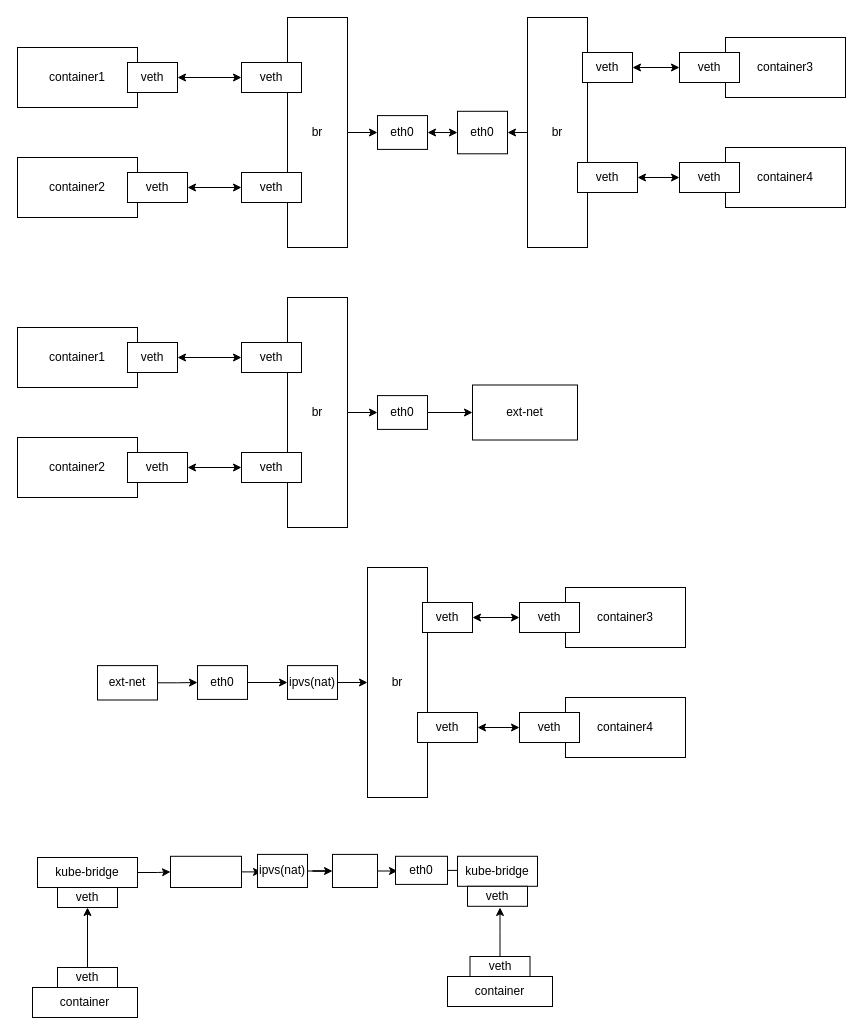
Image size: 863x1035. Some labels were removed from this diagram. Each missing label, with the centre of its shape:
kube-dummy-if: the point at 206,871
route: the point at 355,870
